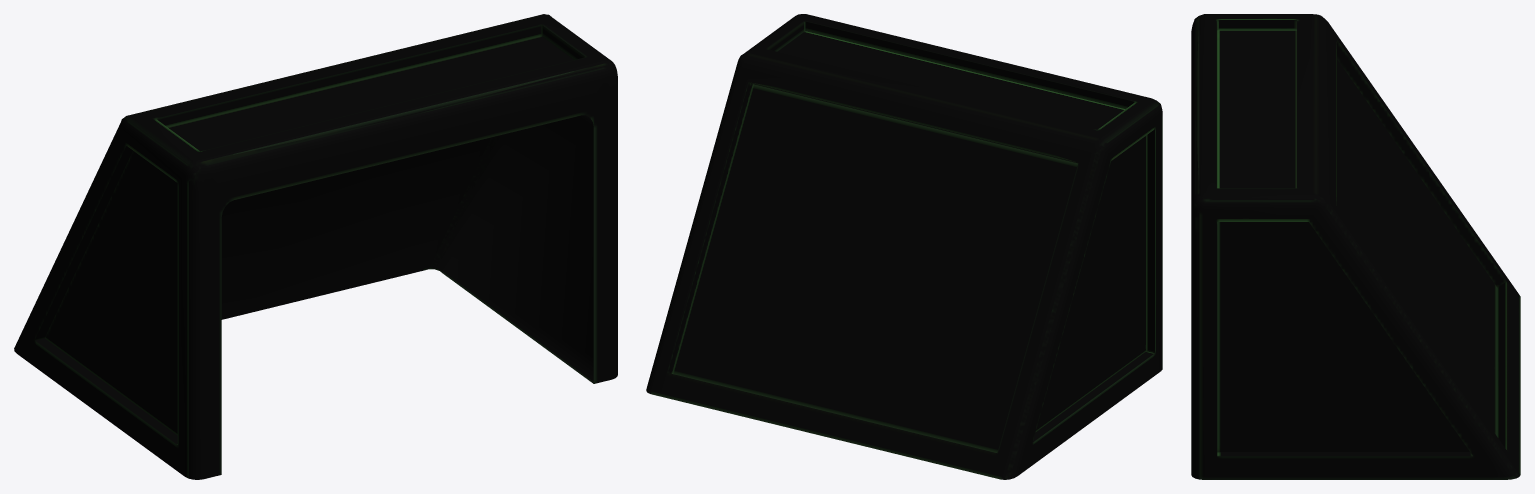
The model's file is Posts.fbx.
3 views of the same model, side by side, from view 1: azimuth 30°, elevation 25°; view 2: azimuth 150°, elevation 25°; view 3: azimuth 270°, elevation 25° (orthographic). The views are drawn at different scales.
Parts seen in each view (by area): view 1: node_id373; view 2: node_id373; view 3: node_id373.
Part boxes in pixels (left/top/right/bottom): node_id373: left=14, top=14, right=617, bottom=479; node_id373: left=646, top=14, right=1162, bottom=479; node_id373: left=1191, top=14, right=1520, bottom=479.
Bounding box in the file's own units: 0.512 × 0.3571 × 0.3783.
Materials: 1 (1 with a texture image).
